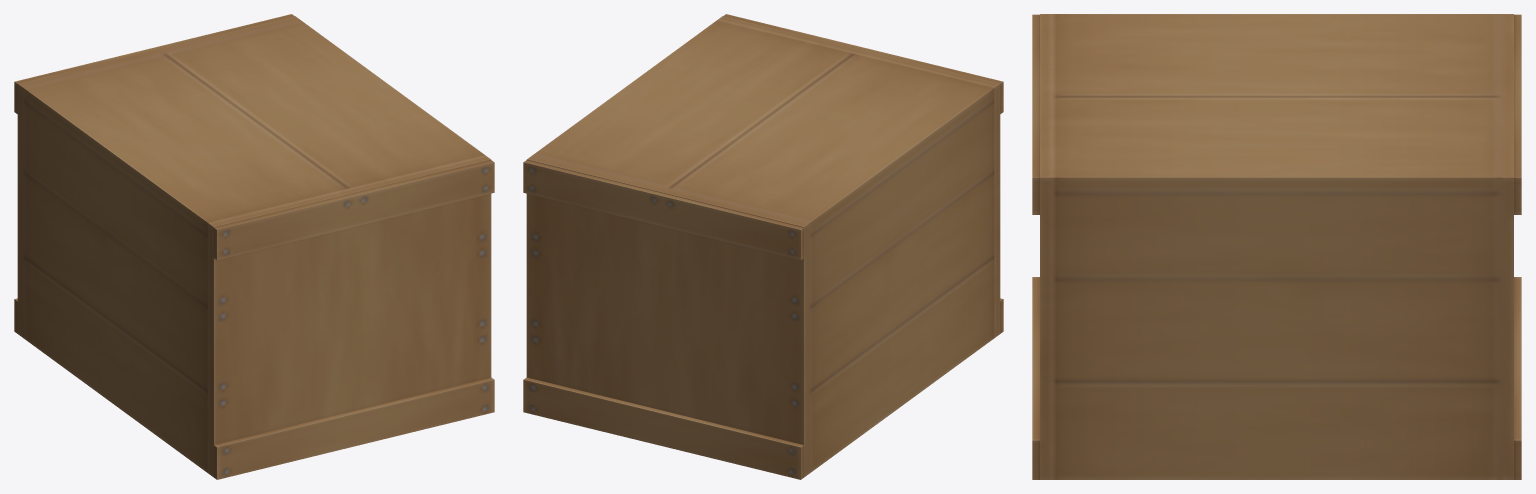
The model's file is jsf_WoodenBox.fbx.
3 views of the same model, side by side, from view 1: azimuth 30°, elevation 25°; view 2: azimuth 150°, elevation 25°; view 3: azimuth 270°, elevation 25° (orthographic). The views are drawn at different scales.
Visible parts, largest first — view 1: jsf_WoodenBox; view 2: jsf_WoodenBox; view 3: jsf_WoodenBox.
Part boxes in pixels (<box>): jsf_WoodenBox: <box>14,14,494,479</box>; jsf_WoodenBox: <box>523,14,1003,479</box>; jsf_WoodenBox: <box>1032,14,1521,479</box>.
Size of the model in its own units: 34.55 by 29.8 by 43.72.
